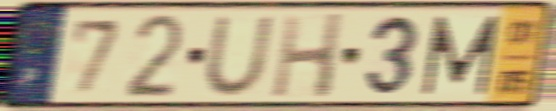2: (123, 11, 187, 101)
3: (361, 12, 424, 99)
7: (69, 16, 123, 96)
H: (268, 10, 349, 101)
M: (419, 13, 504, 98)
U: (201, 12, 278, 99)
